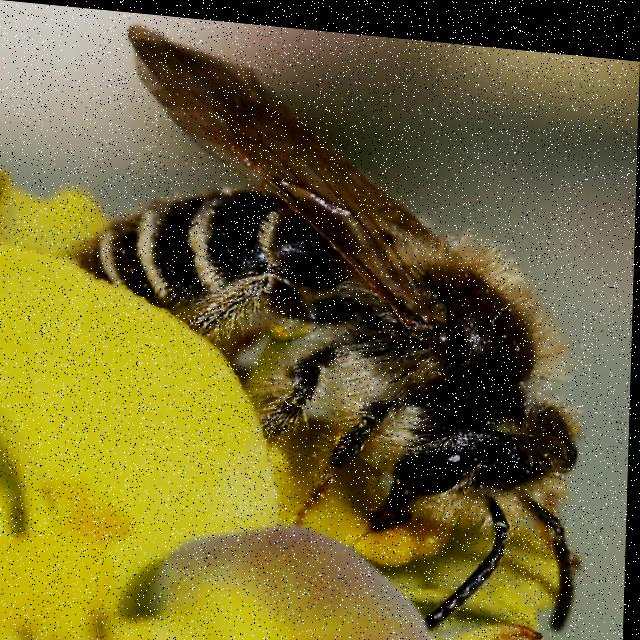Lasioglossum: (60, 12, 637, 636)
